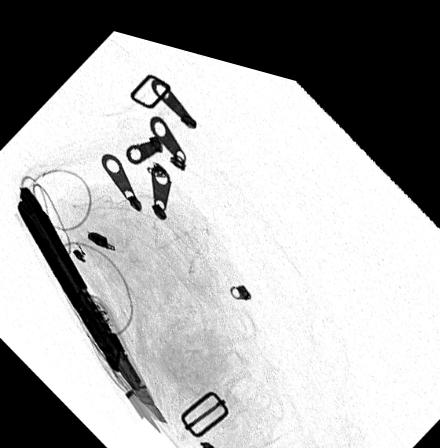Knife: (15, 184, 169, 416)
